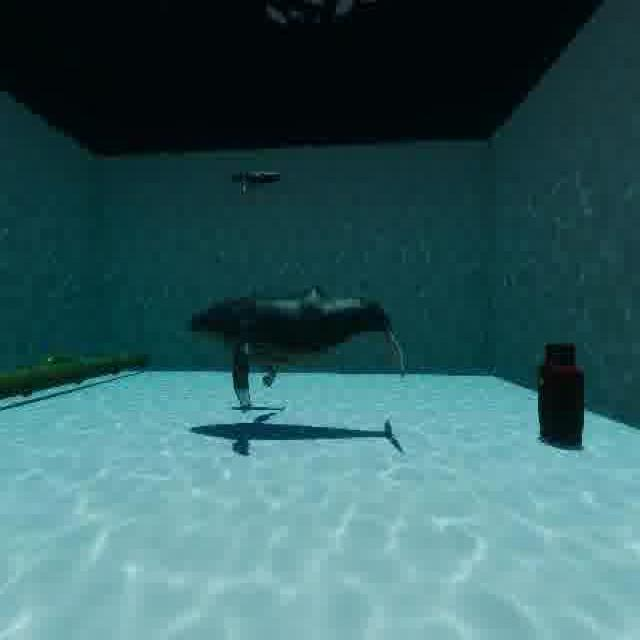Cylinder: (531, 320, 594, 462)
Pipe: (0, 340, 161, 409)
Shell: (258, 367, 284, 387)
Whale: (183, 261, 413, 418), (224, 158, 290, 208)
